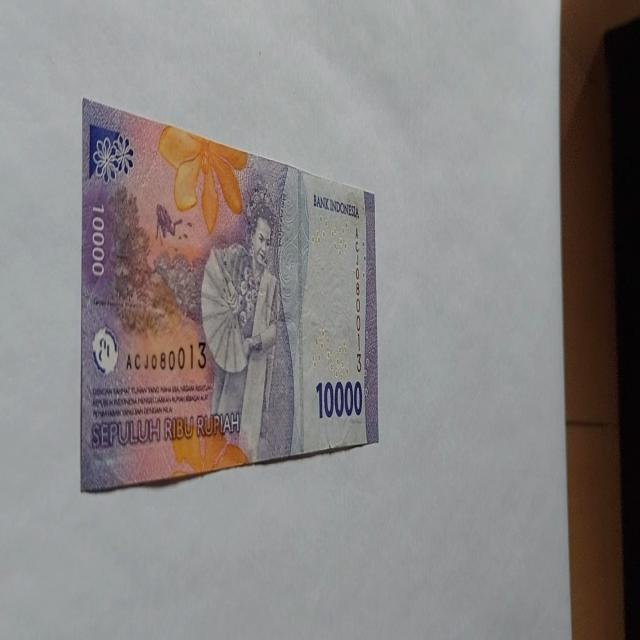sepuluh ribu rupiah: (80, 96, 378, 492), (312, 192, 361, 220)
